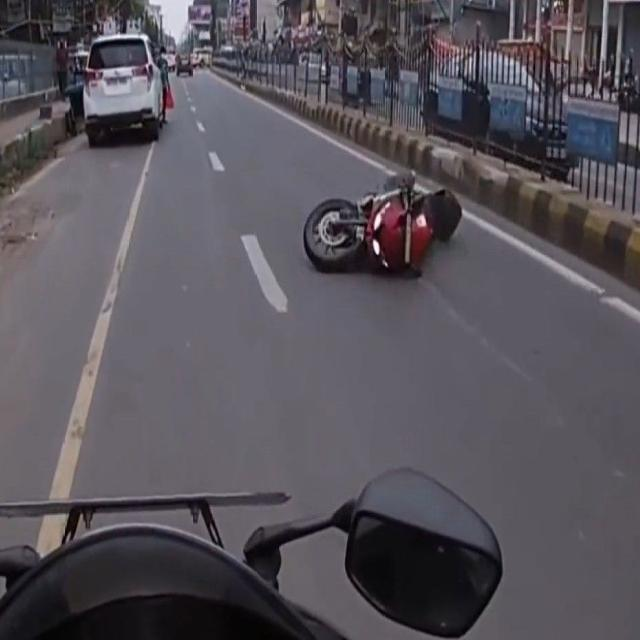accident: (304, 172, 461, 275)
car: (84, 34, 161, 143)
